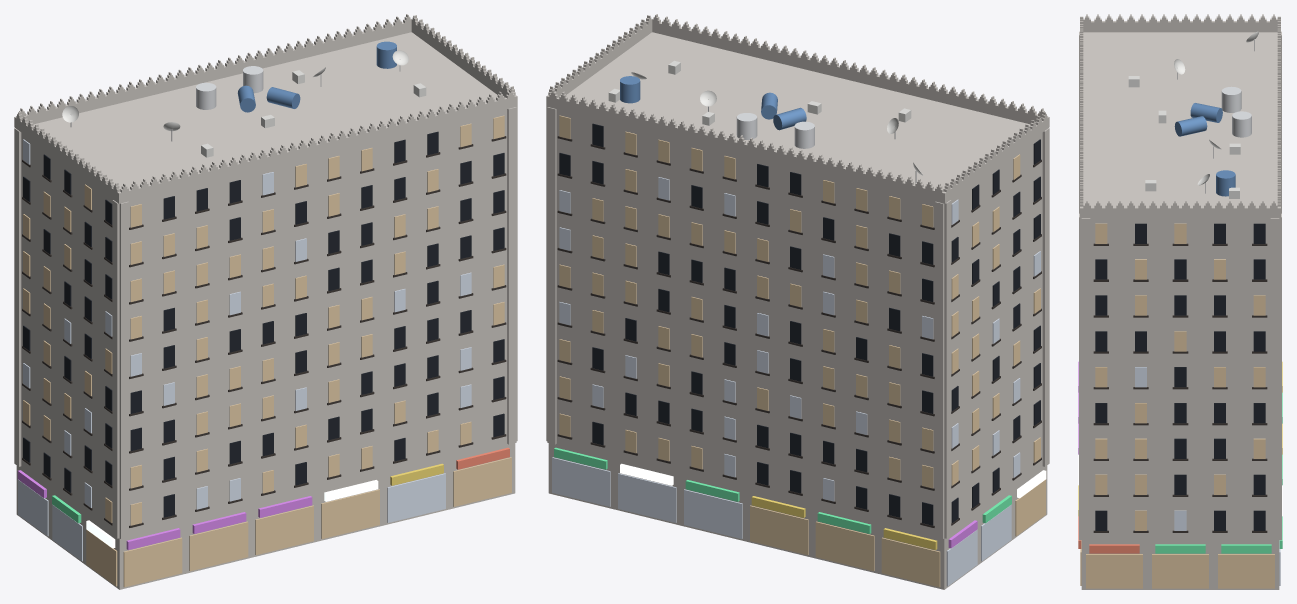
Rendered from SM_RiyadhBlock_03.fbx.
3 renders of one model, left to right at view 1: azimuth 30°, elevation 25°; view 2: azimuth 150°, elevation 25°; view 3: azimuth 270°, elevation 25°, orthographic. The views are drawn at different scales.
Parts seen in each view (by area): view 1: SM_RiyadhBlock_03; view 2: SM_RiyadhBlock_03; view 3: SM_RiyadhBlock_03.
Part boxes in pixels (x1,y1,x2,y2): SM_RiyadhBlock_03: (14,14,517,589); SM_RiyadhBlock_03: (546,14,1049,589); SM_RiyadhBlock_03: (1078,14,1282,589).
Bounding box in the file's own units: 4062 × 3937 × 1862.
